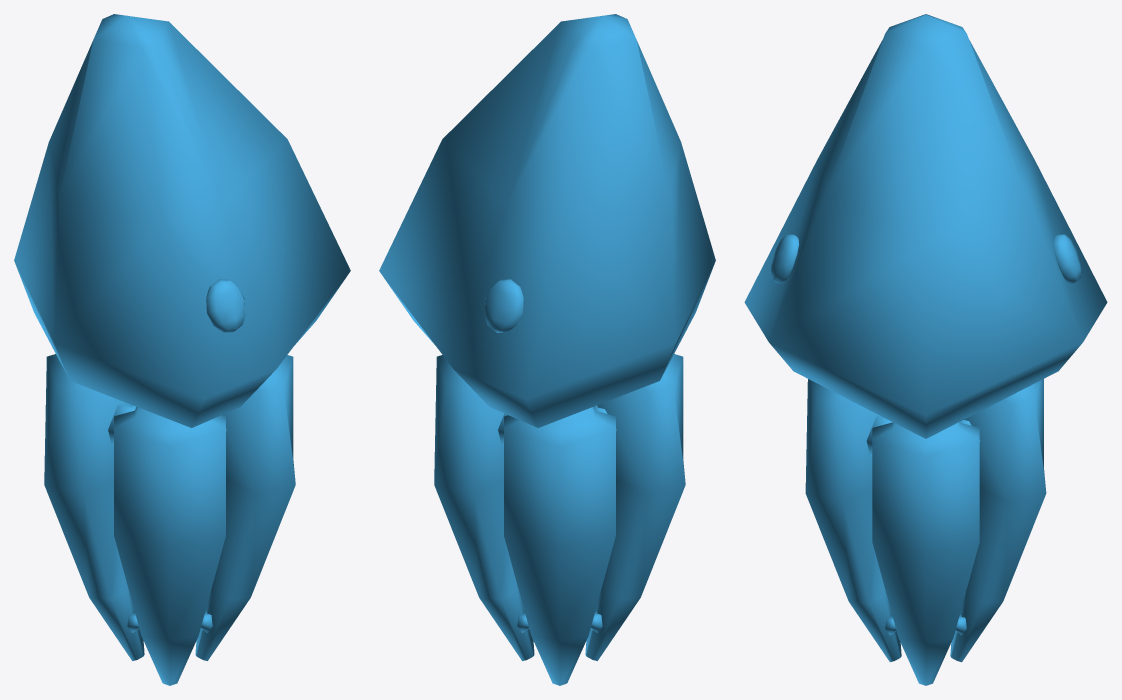
Rendered from model_creature_leechbug.fbx.
3 views of the same model, side by side, from view 1: azimuth 30°, elevation 25°; view 2: azimuth 150°, elevation 25°; view 3: azimuth 270°, elevation 25° (orthographic). The views are drawn at different scales.
Visible parts, largest first — view 1: Cube.004; view 2: Cube.004; view 3: Cube.004.
Part boxes in pixels (x1,y1,x2,y2): Cube.004: (14,14,350,685); Cube.004: (379,14,715,685); Cube.004: (744,14,1107,685).
Size of the model in its own units: 214 by 456 by 237.
